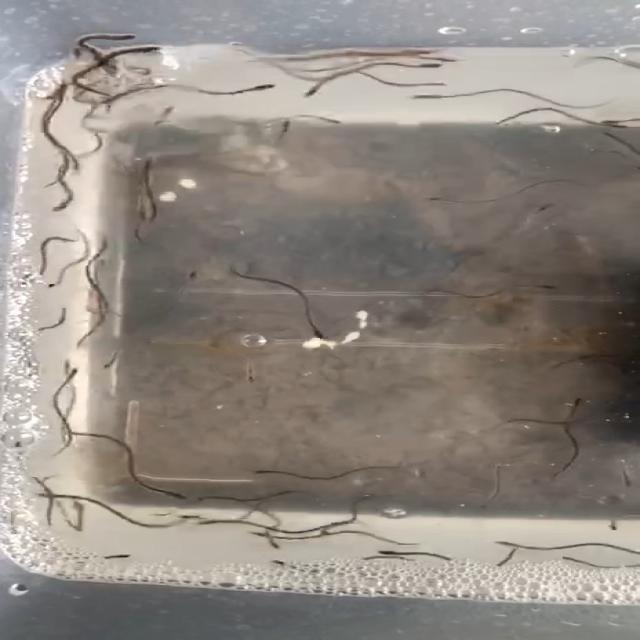inactive_glass_eel: (44, 193, 76, 216), (38, 82, 71, 104), (300, 79, 332, 101), (515, 279, 559, 295), (235, 82, 278, 98), (155, 486, 192, 504), (90, 231, 116, 256), (190, 515, 239, 528), (528, 202, 562, 220), (394, 46, 437, 60), (7, 439, 30, 465), (28, 490, 70, 504), (368, 547, 412, 560), (97, 549, 137, 563), (592, 115, 635, 128), (58, 359, 82, 382), (136, 152, 161, 174), (406, 89, 448, 102), (423, 194, 457, 210), (173, 268, 203, 286), (242, 361, 263, 386), (246, 467, 293, 478), (96, 350, 123, 369), (247, 527, 281, 542), (410, 59, 448, 72), (420, 54, 469, 64), (123, 43, 161, 55), (567, 395, 592, 413), (14, 270, 36, 290), (62, 366, 85, 385), (308, 324, 335, 340), (100, 31, 135, 43), (277, 118, 296, 140), (552, 555, 590, 566), (312, 114, 348, 125), (494, 538, 528, 548), (607, 121, 636, 132)
